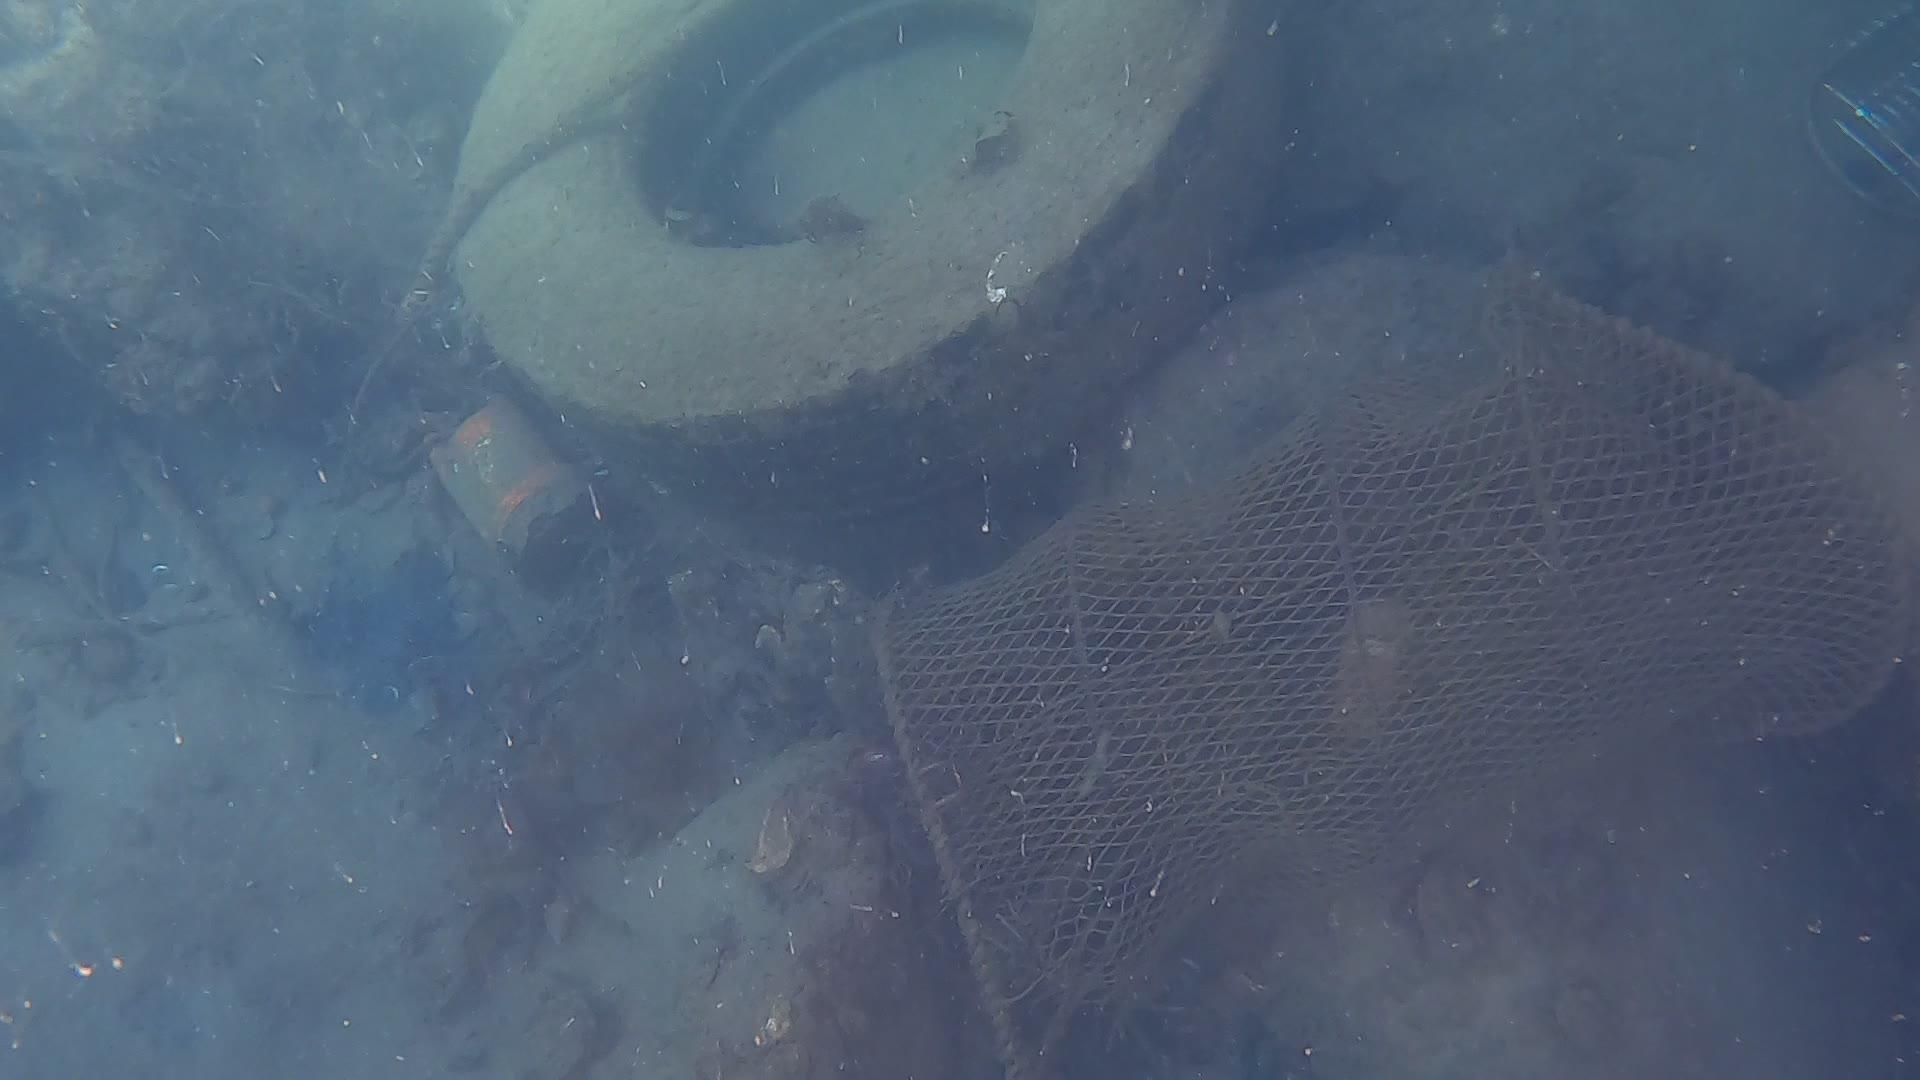spring fish trap: (858, 232, 1920, 1076)
tire: (440, 0, 1294, 530)
